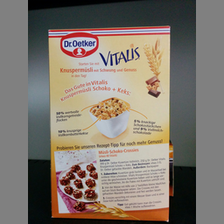cereal: (46, 25, 172, 220)
